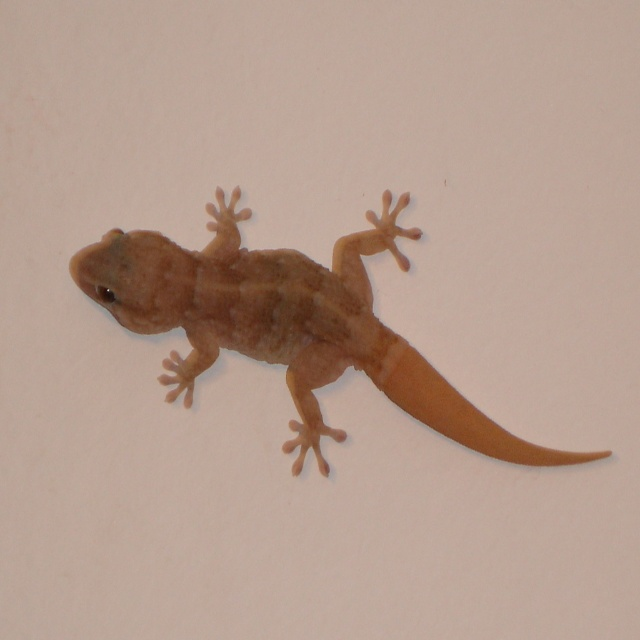Lizard: (79, 165, 626, 505)
